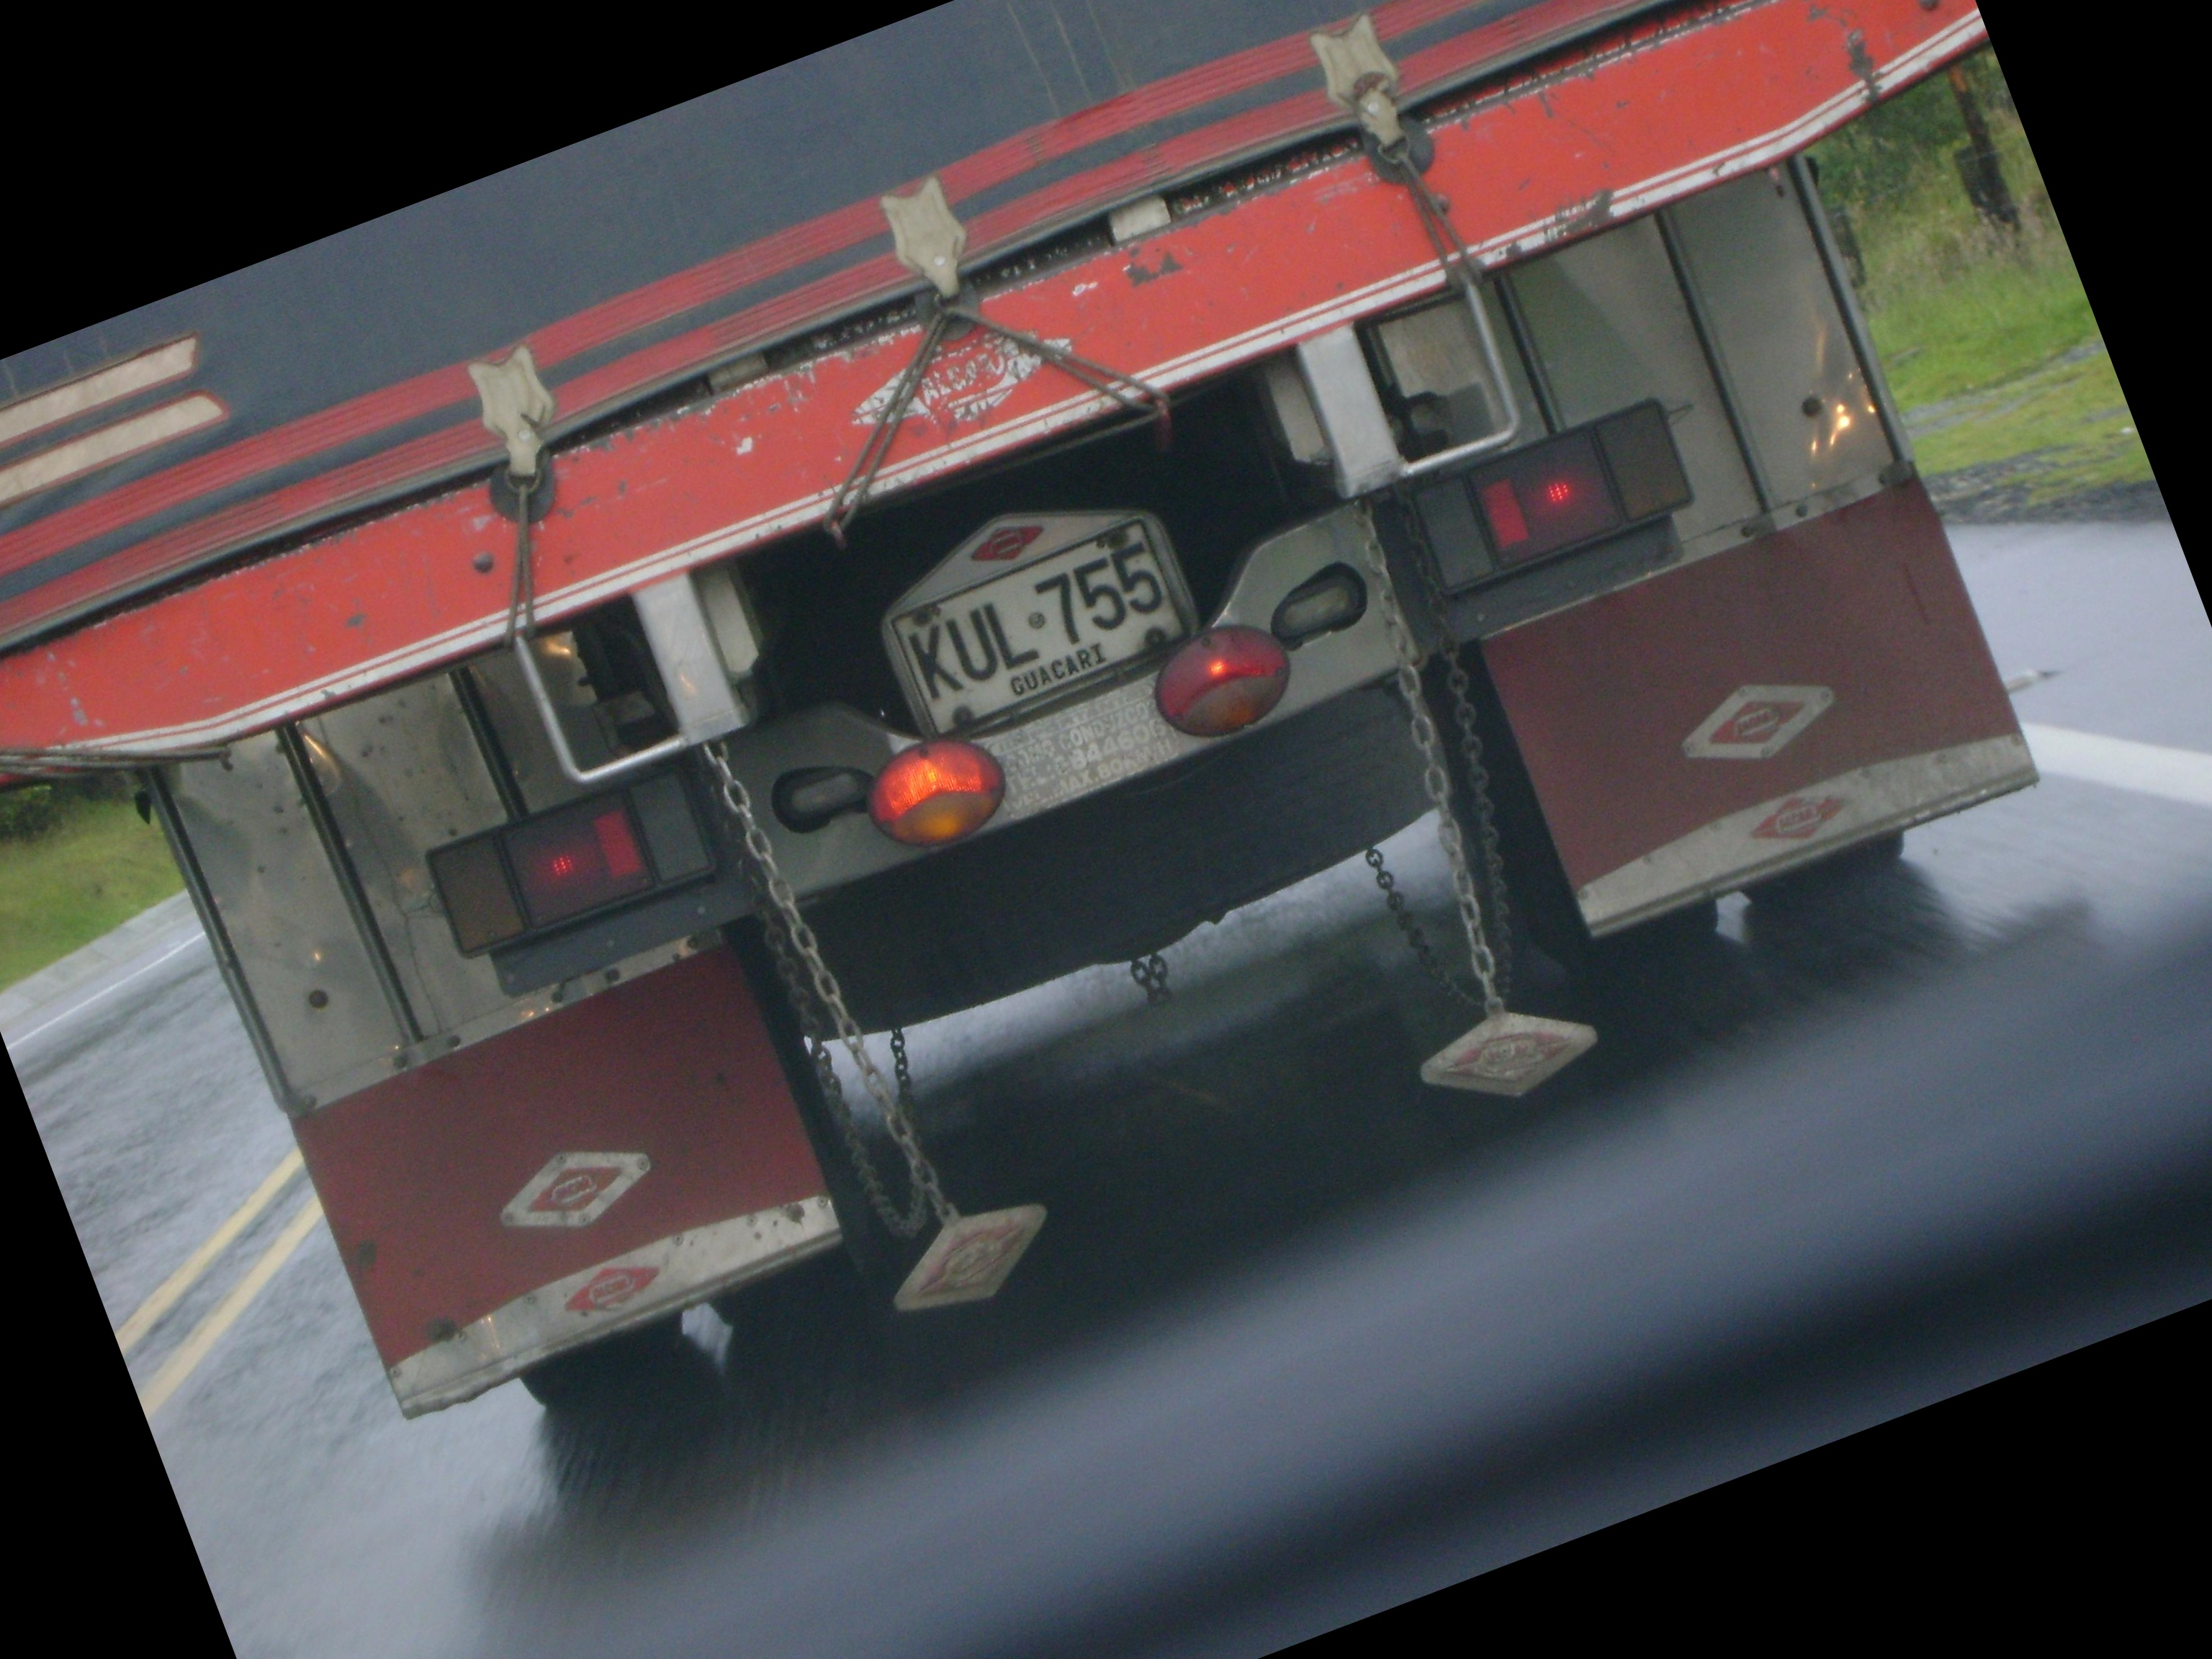placas: (869, 493, 1223, 757)
